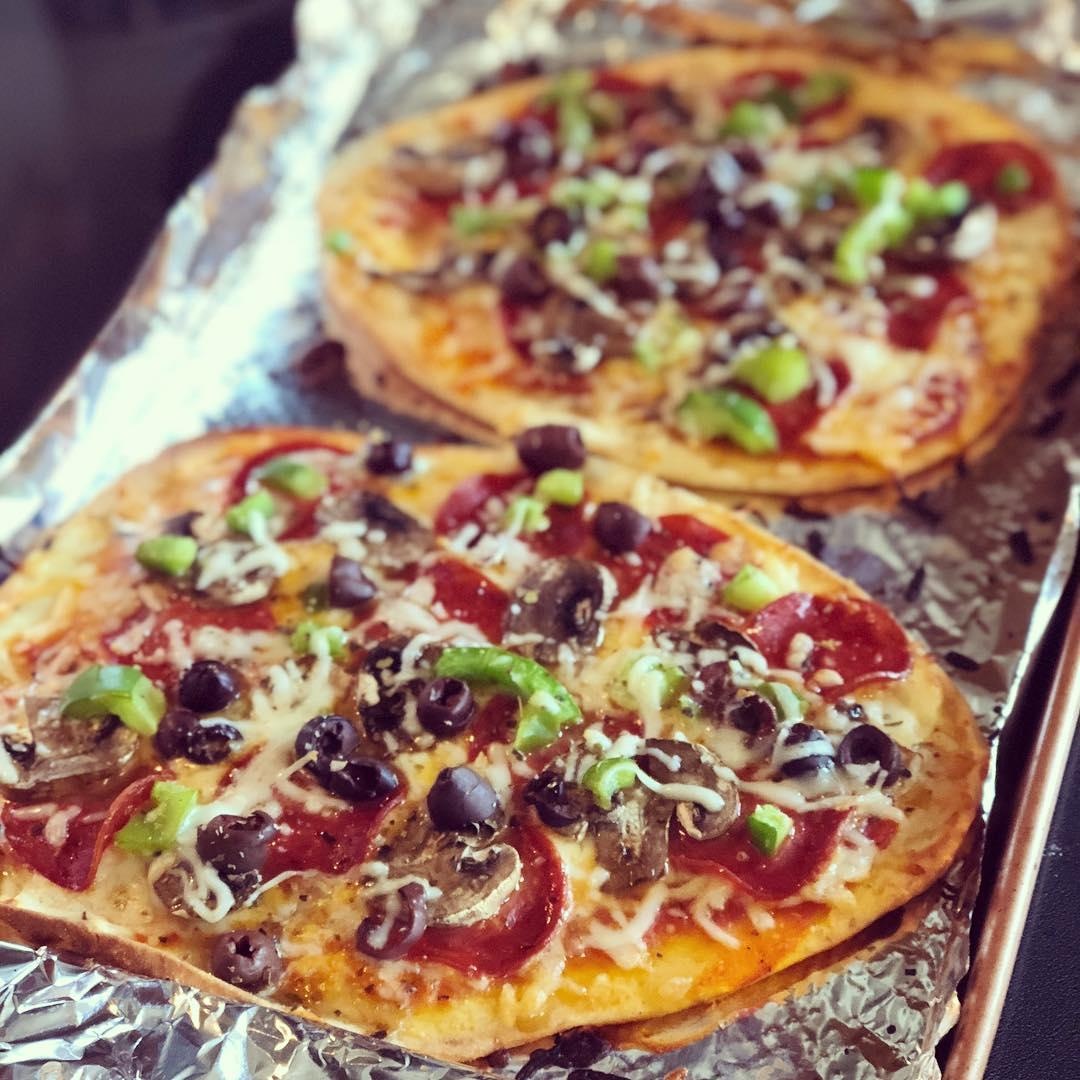Mushroom: (521, 750, 745, 891), (356, 803, 522, 923), (0, 682, 140, 790), (503, 554, 620, 674), (312, 482, 441, 574), (666, 664, 781, 756), (654, 612, 771, 680)
Olives: (415, 751, 522, 852), (149, 700, 245, 774), (194, 807, 288, 878), (508, 416, 599, 482), (289, 708, 363, 786), (208, 920, 278, 998), (769, 716, 847, 782), (843, 716, 912, 790), (406, 673, 484, 737), (354, 686, 418, 756), (335, 752, 406, 814), (351, 429, 431, 483), (175, 650, 240, 716), (593, 492, 658, 557), (363, 629, 419, 689), (320, 553, 383, 606)
Pepperoni: (651, 788, 903, 901), (398, 814, 564, 978), (740, 590, 925, 709), (0, 760, 157, 888), (100, 588, 279, 694), (215, 434, 365, 554), (418, 468, 597, 563), (250, 776, 407, 879), (606, 510, 735, 611), (412, 560, 515, 650)
Peppers: (433, 640, 590, 754), (832, 168, 974, 284), (45, 648, 176, 746), (489, 468, 595, 545), (724, 69, 842, 138), (667, 387, 778, 460), (111, 775, 205, 858), (551, 174, 655, 240), (736, 333, 820, 403), (249, 453, 338, 512), (550, 56, 601, 157), (711, 559, 793, 617), (129, 529, 209, 582), (292, 615, 361, 669), (582, 752, 640, 814), (215, 488, 273, 536), (569, 237, 624, 277), (753, 801, 794, 853), (453, 198, 503, 229)
Pizza: (0, 410, 1005, 1058), (305, 45, 1080, 517)
